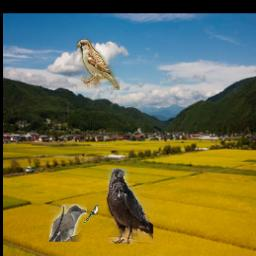Crow: (108, 168, 154, 244)
Cuckoo: (49, 204, 87, 242), (83, 205, 99, 225)
Sparrow: (76, 39, 120, 90)
